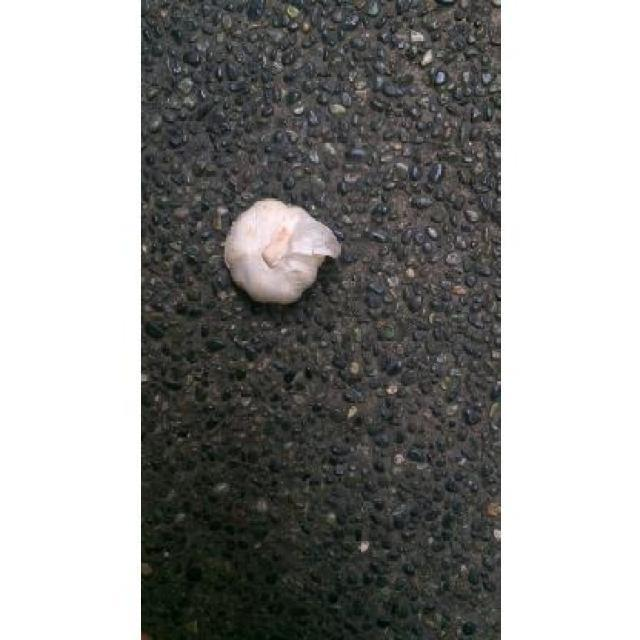garlic: (225, 199, 341, 303)
